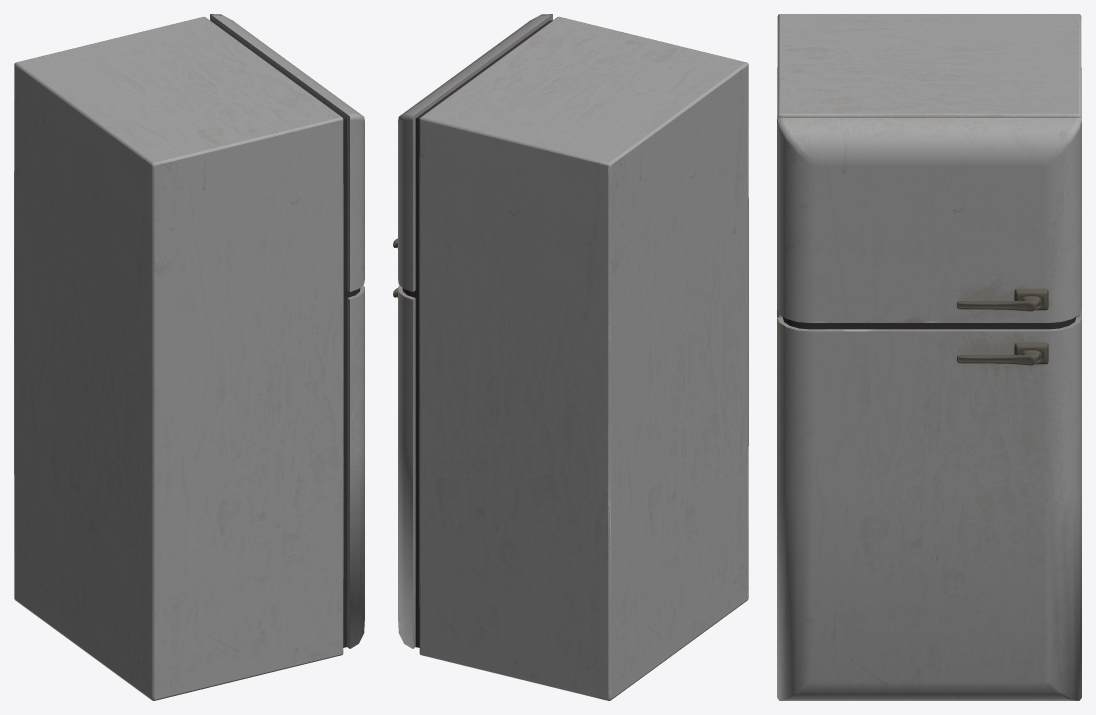
3 views of the same model, side by side, from view 1: azimuth 30°, elevation 25°; view 2: azimuth 150°, elevation 25°; view 3: azimuth 270°, elevation 25° (orthographic). The views are drawn at different scales.
Visible parts, largest first — view 1: OldFridge.fbx_Shell_0, Fridge_BottomDoor, Fridge_TopDoor; view 2: OldFridge.fbx_Shell_0, Fridge_BottomDoor, Fridge_TopDoor; view 3: Fridge_BottomDoor, Fridge_TopDoor, OldFridge.fbx_Shell_0.
Part boxes in pixels (x1,y1,x2,y2): OldFridge.fbx_Shell_0: [14, 16, 343, 700]; Fridge_BottomDoor: [343, 285, 364, 648]; Fridge_TopDoor: [210, 14, 364, 294]; OldFridge.fbx_Shell_0: [419, 16, 748, 700]; Fridge_BottomDoor: [393, 285, 419, 648]; Fridge_TopDoor: [393, 14, 552, 294]; Fridge_BottomDoor: [777, 317, 1081, 700]; Fridge_TopDoor: [777, 117, 1081, 325]; OldFridge.fbx_Shell_0: [777, 14, 1081, 317].
Bounding box in the file's own units: 5.5 × 11.88 × 5.6.
Materials: 4 (4 with a texture image).
